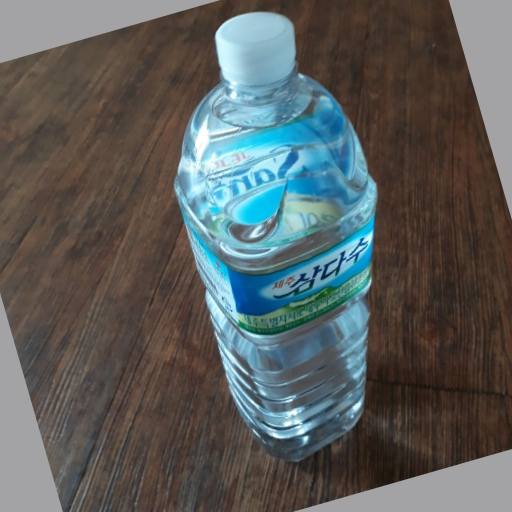Plastic_0: (173, 13, 379, 464)
